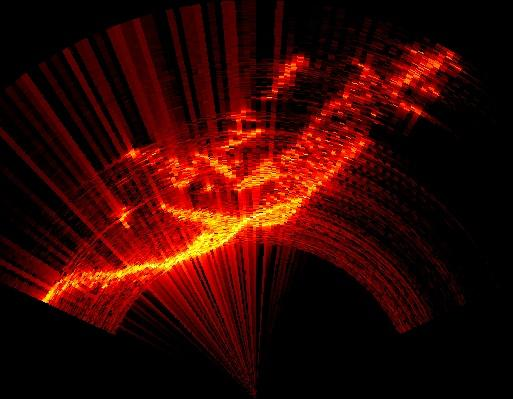shipwreck: (49, 50, 448, 298)
